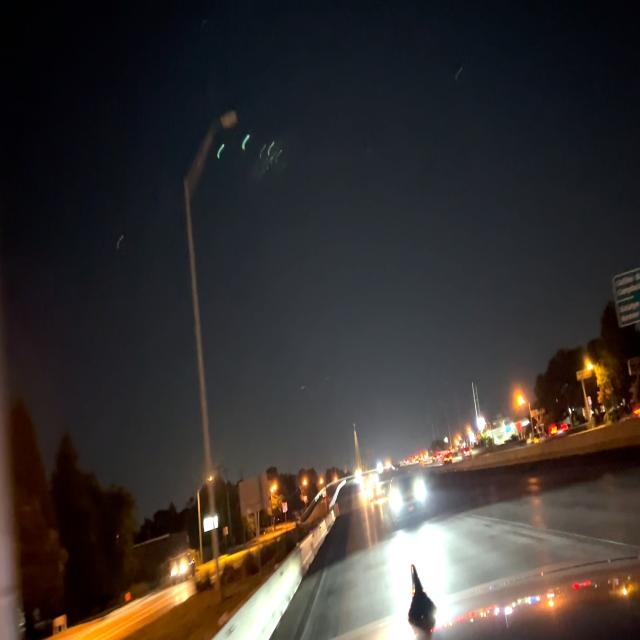back-of-sign: (240, 473, 270, 519)
